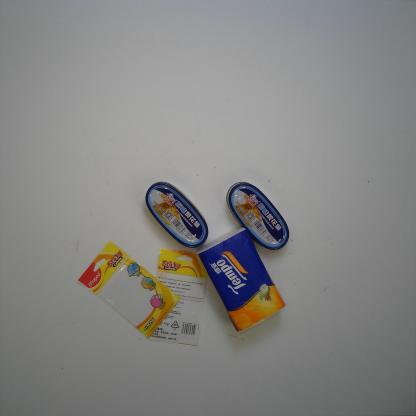Canned Food: (144, 181, 209, 248), (226, 182, 290, 250)
Stationery: (78, 241, 181, 339), (148, 248, 210, 347)
Tissue: (196, 226, 287, 332)
